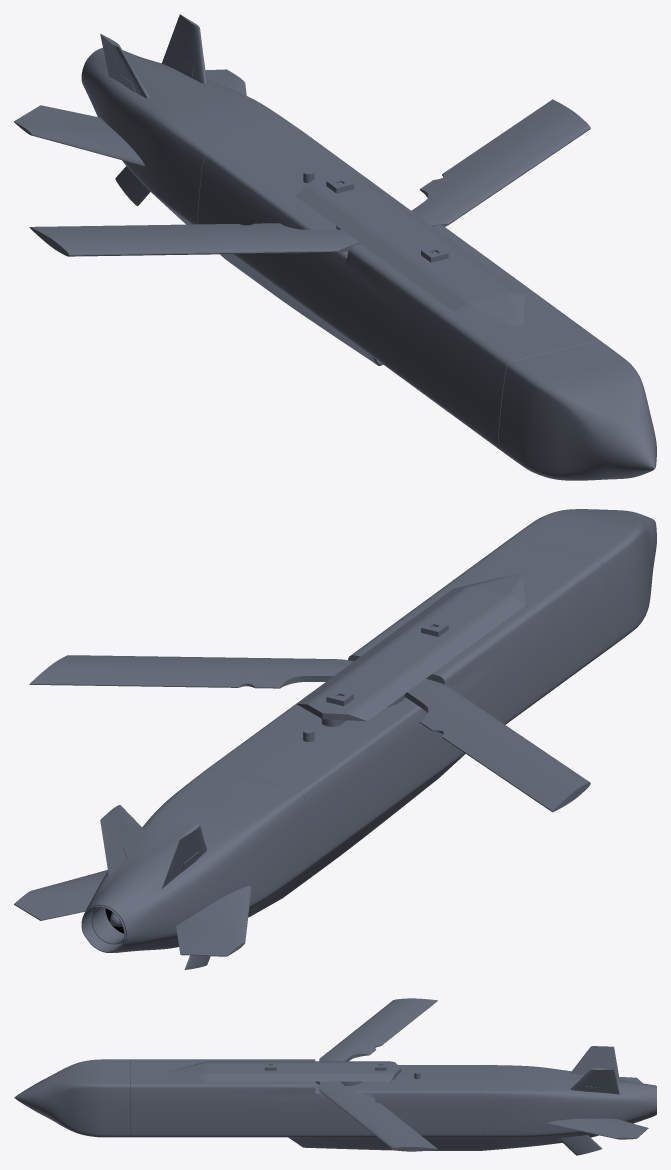
Rendered from StormShadow.fbx.
3 views of the same model, one above another, from view 1: azimuth 30°, elevation 25°; view 2: azimuth 150°, elevation 25°; view 3: azimuth 270°, elevation 25° (orthographic). The views are drawn at different scales.
Parts seen in each view (by area): view 1: Fuselage, Stbd-Wing, Port-Wing; view 2: Fuselage, Port-Wing, Stbd-Wing; view 3: Fuselage, Port-Wing, Stbd-Wing.
Boxes of the visible parts, box(x1,y1,x2,y2) form: Fuselage: box(14, 14, 656, 480); Stbd-Wing: box(29, 223, 360, 256); Port-Wing: box(411, 99, 590, 226); Fuselage: box(14, 509, 656, 969); Port-Wing: box(29, 655, 353, 688); Stbd-Wing: box(387, 679, 590, 812); Fuselage: box(14, 1046, 656, 1155); Port-Wing: box(316, 1081, 437, 1151); Stbd-Wing: box(319, 998, 437, 1086).
Bounding box in the file's own units: 279 × 77.25 × 509.
